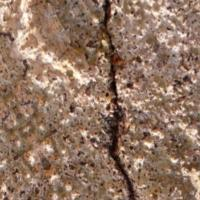crack: (92, 0, 175, 199)
